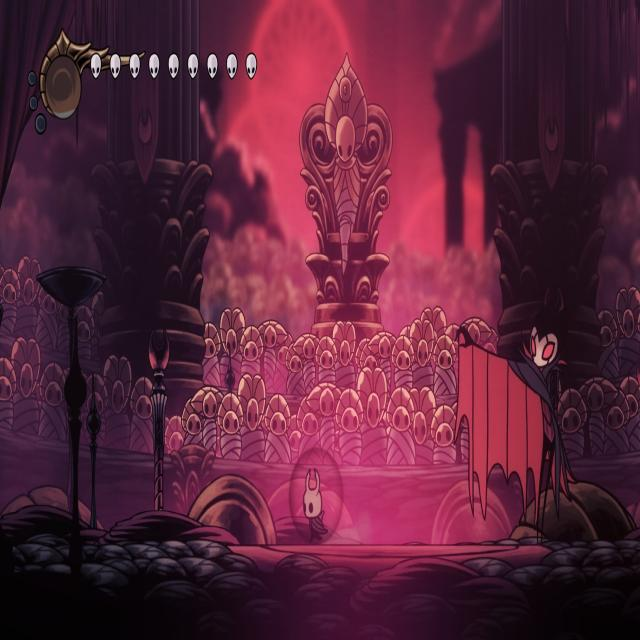Open Cloak: (448, 294, 579, 549)
Player: (302, 461, 330, 547)
